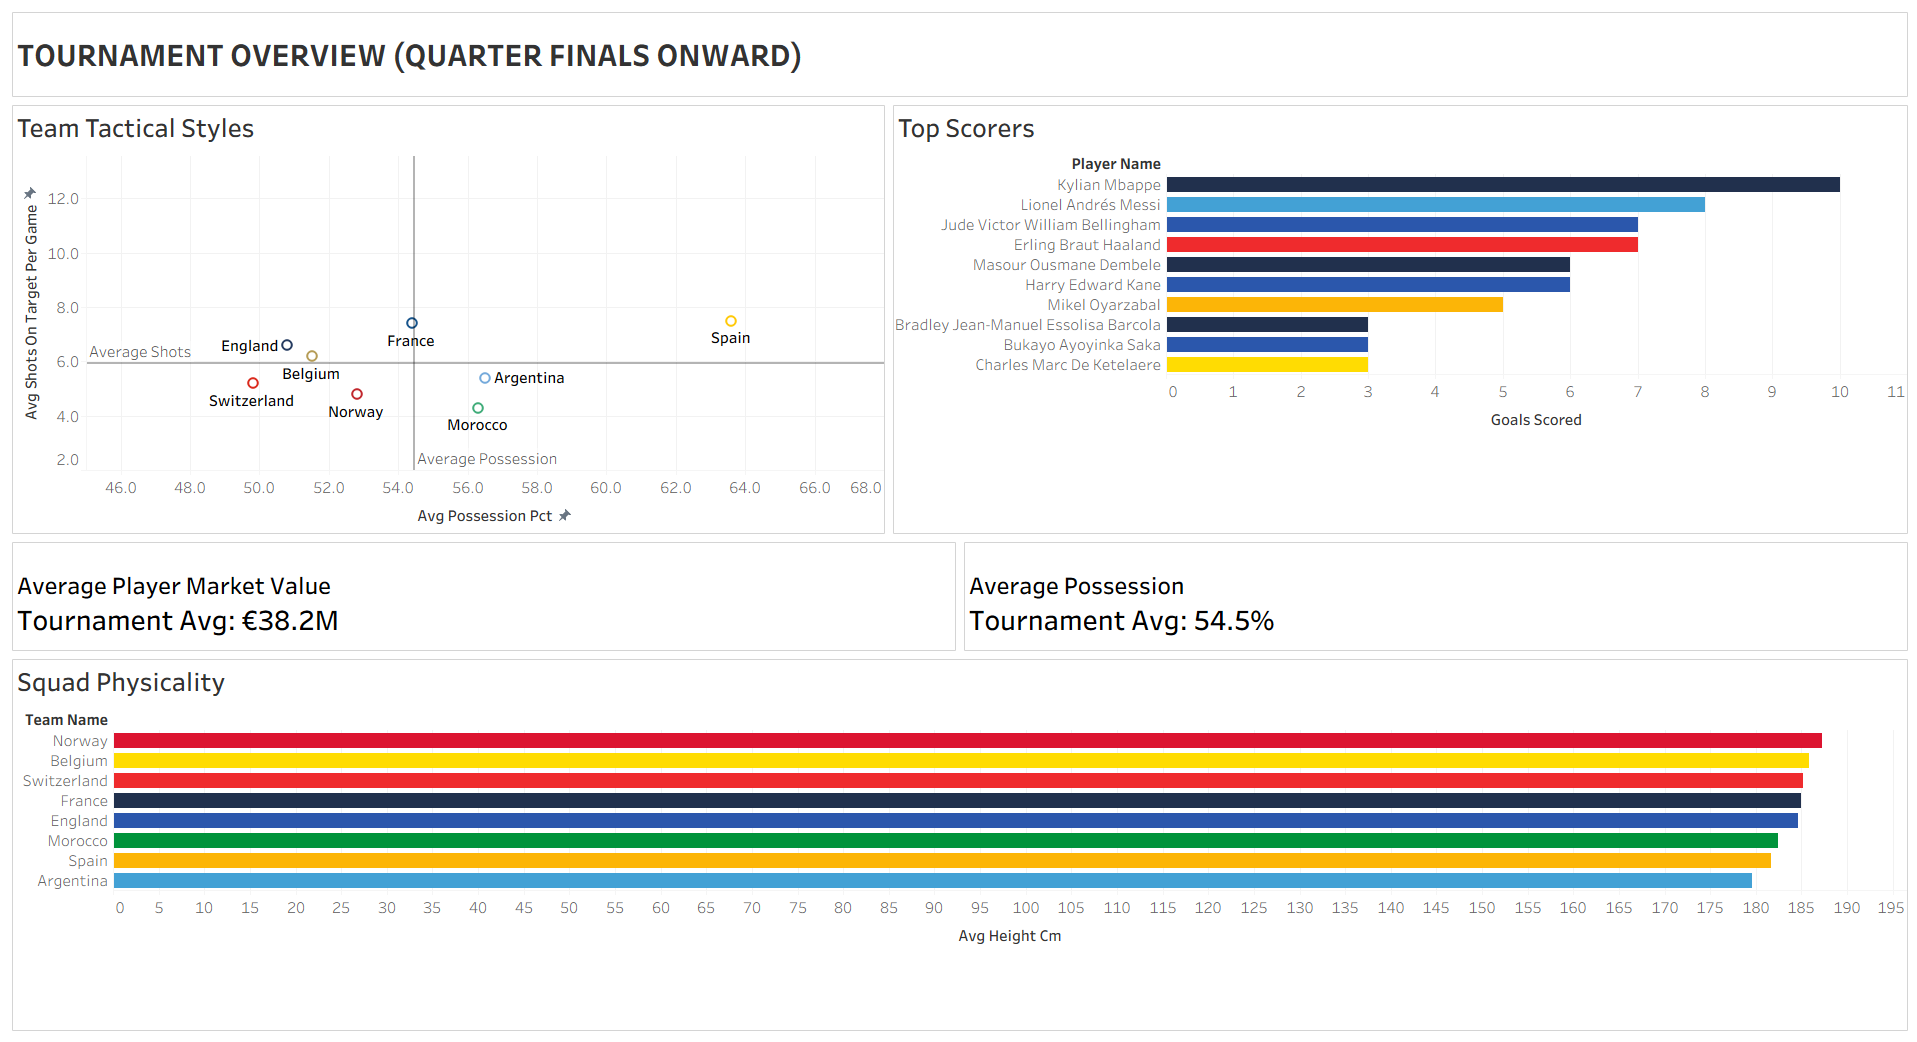

This screenshot's page, from the dashboard's own definition file:
{"tool":"tableau","page":{"name":"Dashboard 1","canvas":[1000,1000],"units":"permille","ordinal":0},"visuals":[{"type":"worksheet","title":"Dynamic Title","mark":"Automatic","box":[4.2,9.4,991.5,89.1]},{"type":"worksheet","title":"Team Tactical Styles","mark":"Automatic","rows":["avg_shots_on_target_per_game"],"cols":["avg_possession_pct"],"box":[4.2,98.5,458.7,417.3]},{"type":"worksheet","title":"Top Scorers","mark":"Automatic","rows":["player_name"],"cols":["goals_scored"],"box":[462.9,98.5,532.8,417.3]},{"type":"worksheet","title":"KPI Market Value","mark":"Automatic","box":[4.2,515.9,495.8,111.6]},{"type":"worksheet","title":"KPI Possession","mark":"Automatic","box":[500,515.9,495.8,111.6]},{"type":"worksheet","title":"Squad Physicality","mark":"Automatic","rows":["team_name"],"cols":["avg_height_cm"],"box":[4.2,627.4,991.5,363.2]}]}

Visuals, with their boxes on the dashboard's canvas, which has no fixed pixel size, in thousandths of its width and height (x1, y1, x2, y2). These are canvas units, not pixel positions in the 1917x1042 screenshot, which may show the page scaled, cropped or inside an application window:
"Dynamic Title" worksheet: {"x1": 4, "y1": 9, "x2": 996, "y2": 98}
"Team Tactical Styles" worksheet: {"x1": 4, "y1": 98, "x2": 463, "y2": 516}
"Top Scorers" worksheet: {"x1": 463, "y1": 98, "x2": 996, "y2": 516}
"KPI Market Value" worksheet: {"x1": 4, "y1": 516, "x2": 500, "y2": 628}
"KPI Possession" worksheet: {"x1": 500, "y1": 516, "x2": 996, "y2": 628}
"Squad Physicality" worksheet: {"x1": 4, "y1": 627, "x2": 996, "y2": 991}
